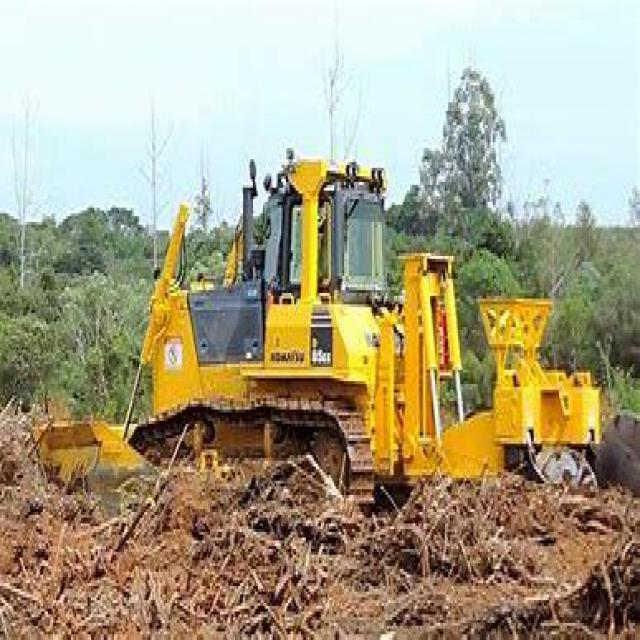Bulldozer: (49, 111, 480, 557)
